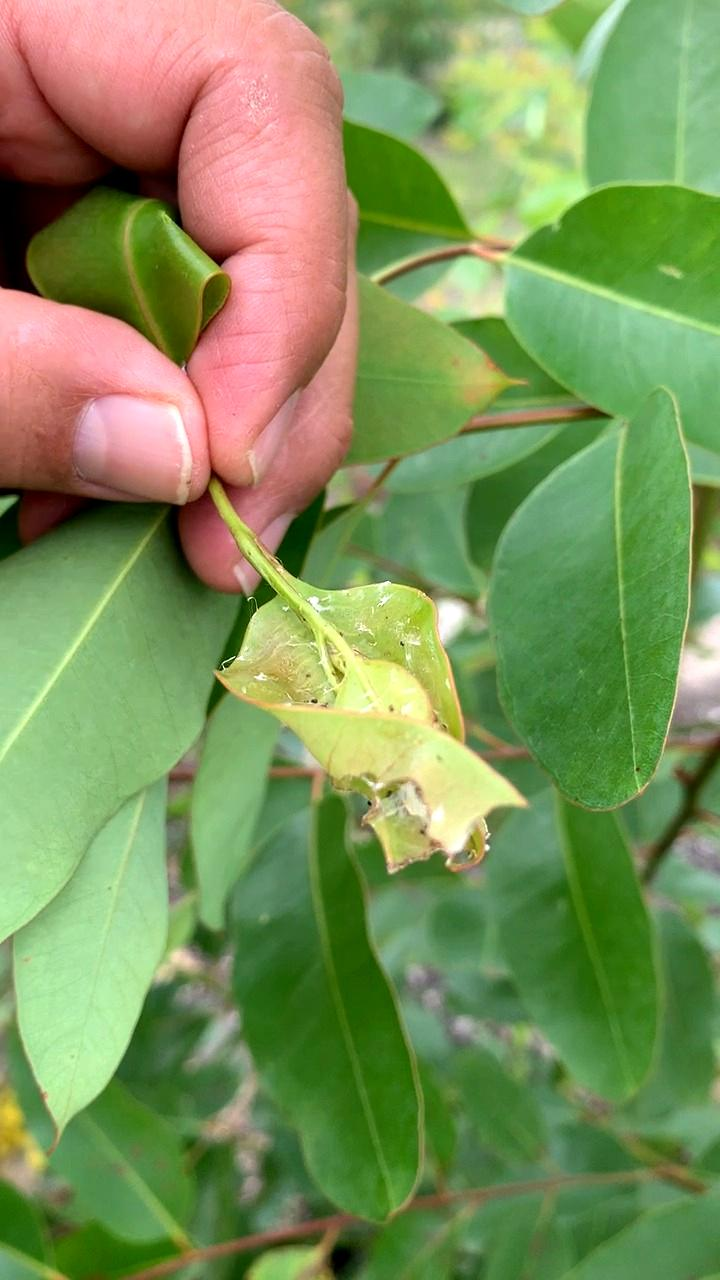Leaf Roller - Leaf: (209, 572, 538, 906)
